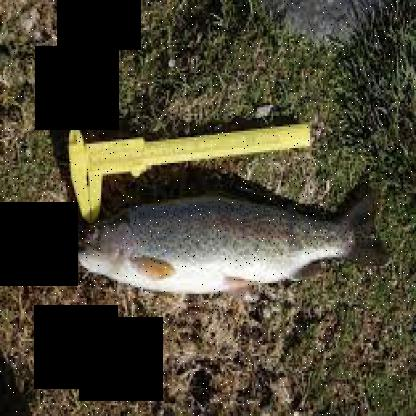fish: (74, 181, 386, 290)
